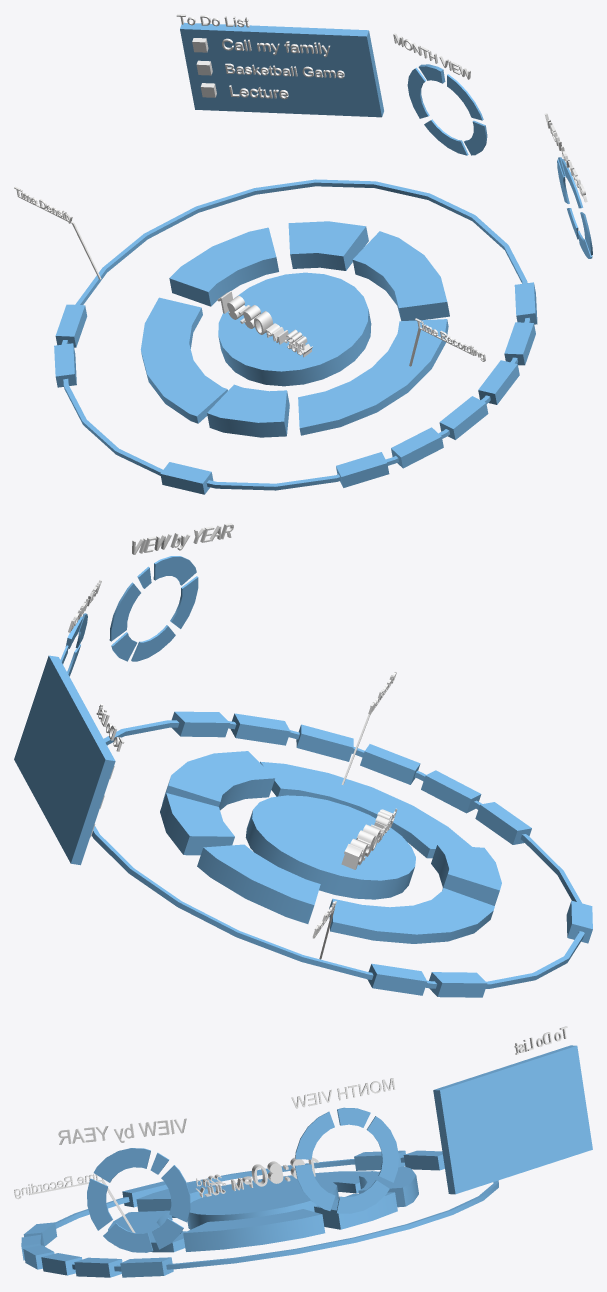
The picture shows the model from 3 angles, top to bottom: view 1: azimuth 30°, elevation 25°; view 2: azimuth 150°, elevation 25°; view 3: azimuth 270°, elevation 25°; orthographic projection. The views are drawn at different scales.
Parts seen in each view (by area): view 1: Group1; view 2: Group1; view 3: Group1.
Boxes of the visible parts, x1,y1,x2,y2 form: Group1: (14, 14, 592, 494); Group1: (14, 523, 592, 997); Group1: (14, 1026, 592, 1277).
Size of the model in its own units: 5145 by 3241 by 5933.
